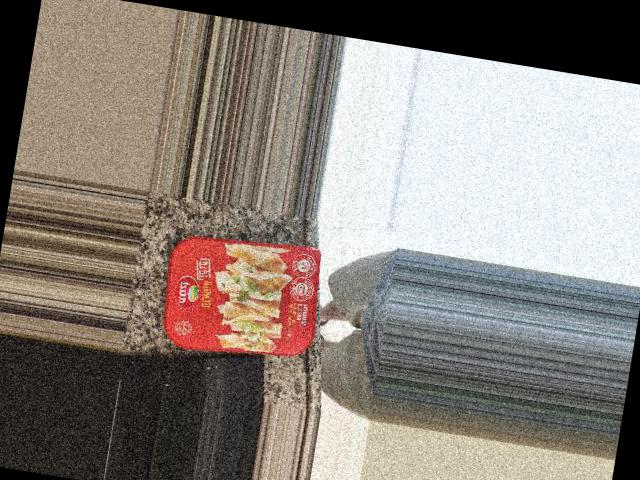cheese: (154, 223, 330, 369)
